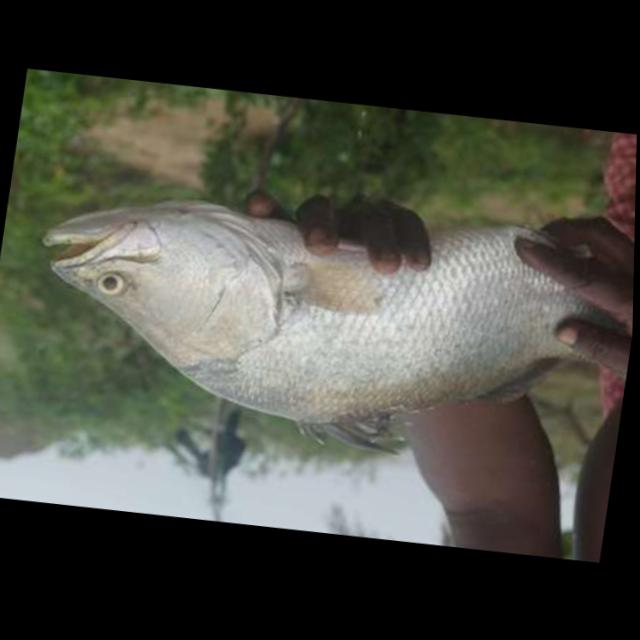Seabass: (13, 164, 631, 484)
